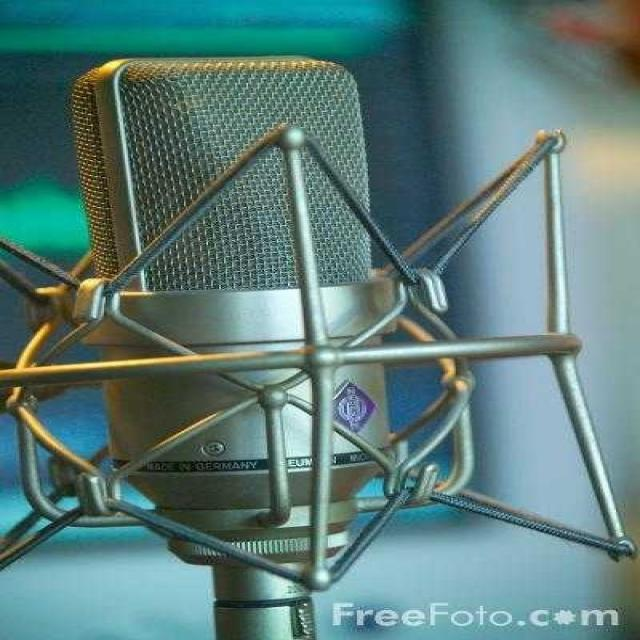microphone: (54, 47, 438, 599)
